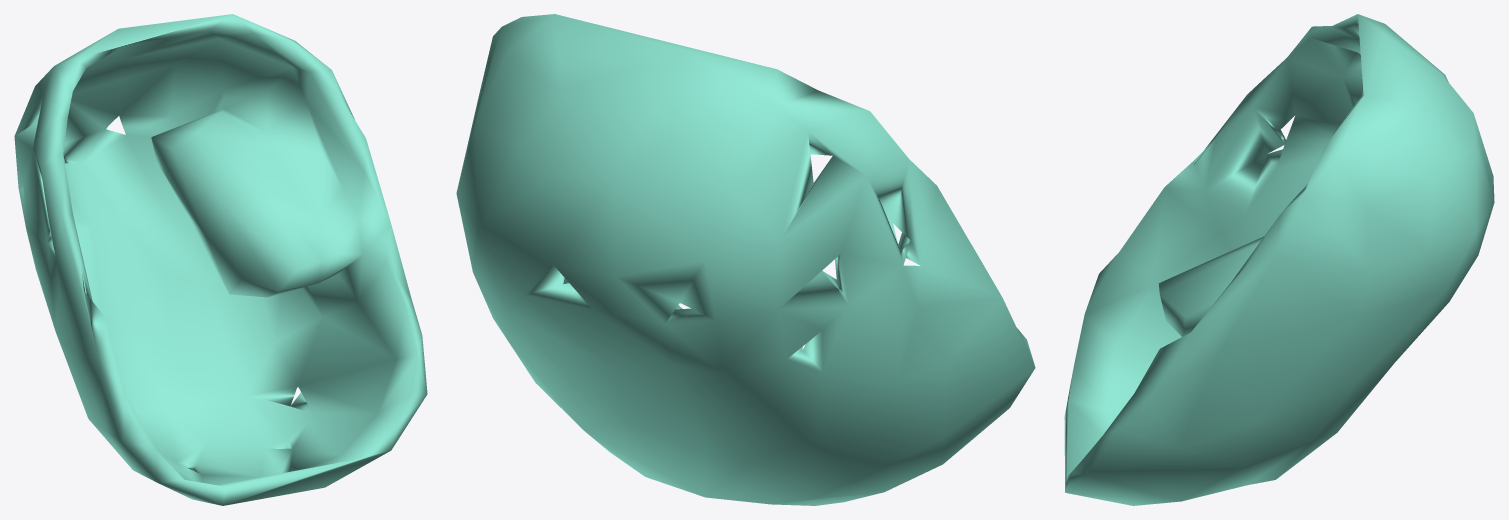
3 views of the same model, side by side, from view 1: azimuth 30°, elevation 25°; view 2: azimuth 150°, elevation 25°; view 3: azimuth 270°, elevation 25° (orthographic). The views are drawn at different scales.
Visible parts, largest first — view 1: 접어 세운 패브릭; view 2: 접어 세운 패브릭; view 3: 접어 세운 패브릭.
Part boxes in pixels (x1,y1,x2,y2): 접어 세운 패브릭: [14, 14, 427, 505]; 접어 세운 패브릭: [456, 14, 1035, 505]; 접어 세운 패브릭: [1064, 14, 1494, 505].
Size of the model in its own units: 0.3855 by 0.4507 by 0.4107.
Materials: 1 (1 with a texture image).
